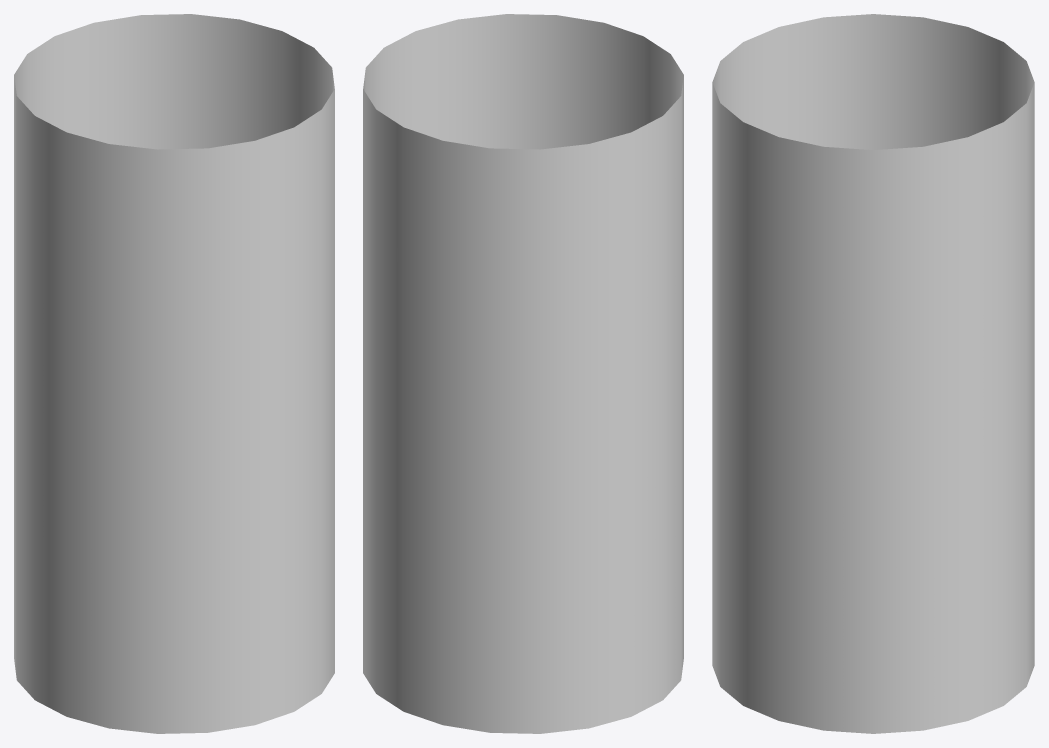
File: openCylinder.fbx
3 renders of one model, left to right at view 1: azimuth 30°, elevation 25°; view 2: azimuth 150°, elevation 25°; view 3: azimuth 270°, elevation 25°, orthographic.
Visible parts, largest first — view 1: pCylinder1; view 2: pCylinder1; view 3: pCylinder1.
Part boxes in pixels (x1,y1,x2,y2): pCylinder1: (14,14,334,733); pCylinder1: (363,14,683,733); pCylinder1: (712,14,1034,733).
Bounding box in the file's own units: 10 × 20 × 10.
